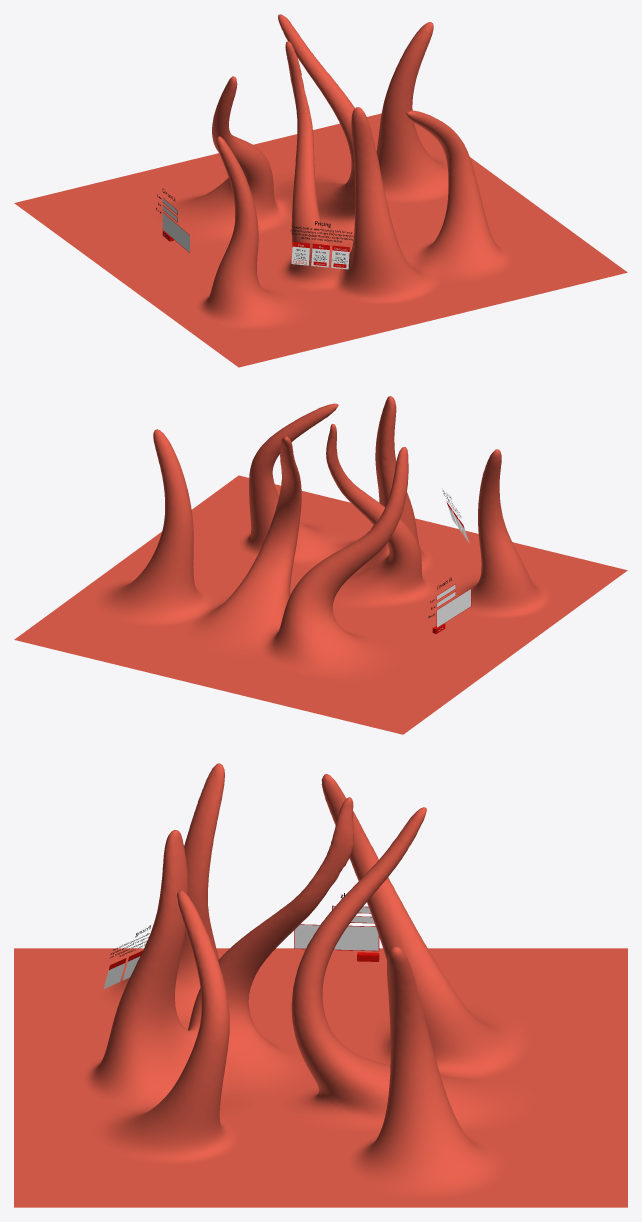
File: webscroll-transformed.glb
3 views of the same model, one above another, from view 1: azimuth 30°, elevation 25°; view 2: azimuth 150°, elevation 25°; view 3: azimuth 270°, elevation 25° (orthographic). The views are drawn at different scales.
Visible parts, largest first — view 1: Plane.001, Plane.007; view 2: Plane.001, Plane.007; view 3: Plane.001, Plane.007.
Boxes of the visible parts, x1,y1,x2,y2 form: Plane.001: (14, 14, 627, 367); Plane.007: (162, 212, 189, 252); Plane.001: (14, 396, 627, 734); Plane.007: (436, 588, 471, 627); Plane.001: (14, 763, 627, 1207); Plane.007: (294, 924, 379, 951).
Size of what is drawn, in the model's own units: 8 by 3.9 by 8.
